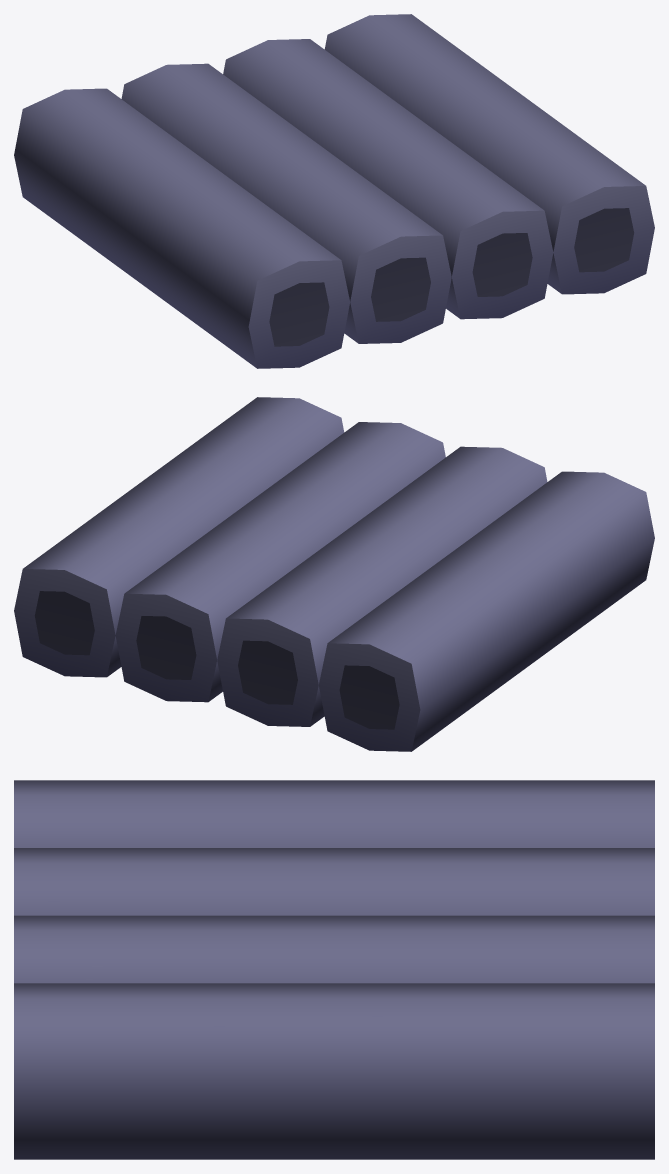
Rendered from conveyor-bars.glb.
3 views of the same model, one above another, from view 1: azimuth 30°, elevation 25°; view 2: azimuth 150°, elevation 25°; view 3: azimuth 270°, elevation 25° (orthographic). The views are drawn at different scales.
Visible parts, largest first — view 1: conveyor-bars; view 2: conveyor-bars; view 3: conveyor-bars.
Part boxes in pixels (box(x1,y1,x2,y2)): conveyor-bars: box(14, 14, 654, 368); conveyor-bars: box(14, 397, 654, 751); conveyor-bars: box(14, 780, 654, 1159).
Bounding box in the file's own units: 1 × 0.25 × 1.
